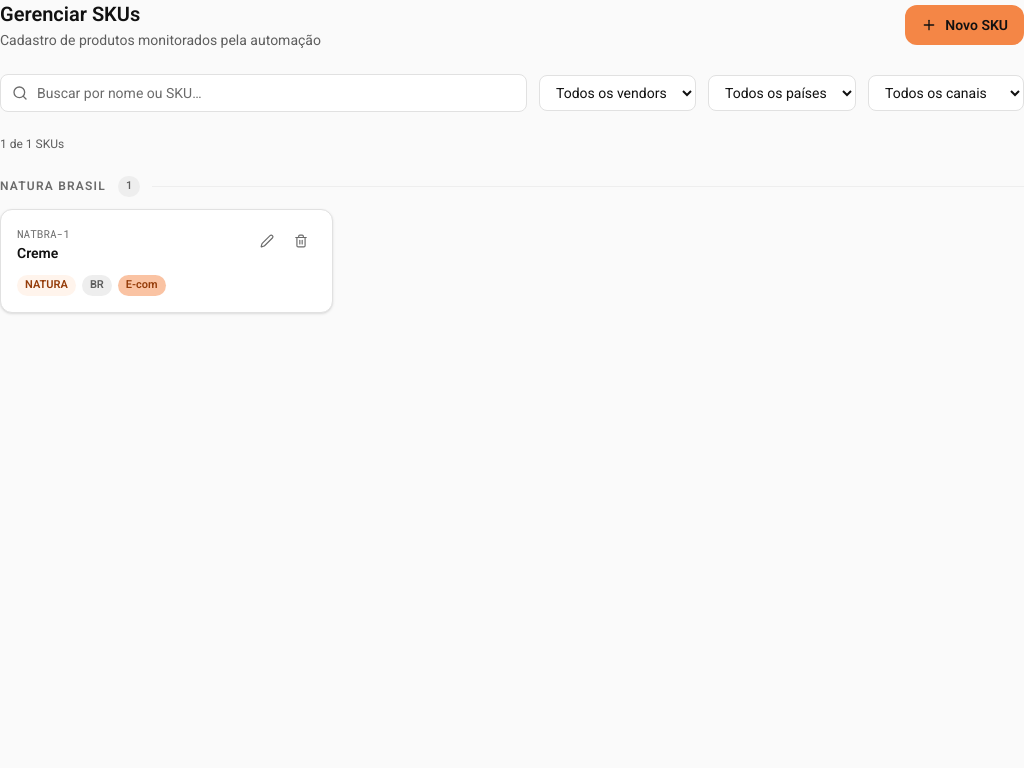
Test: SkusClient › edita um SKU e substitui o card mesmo quando o id muda
The image size is (1024, 768).
Click the button named "Editar Creme" at x=267, y=240, box [252,226,282,256]
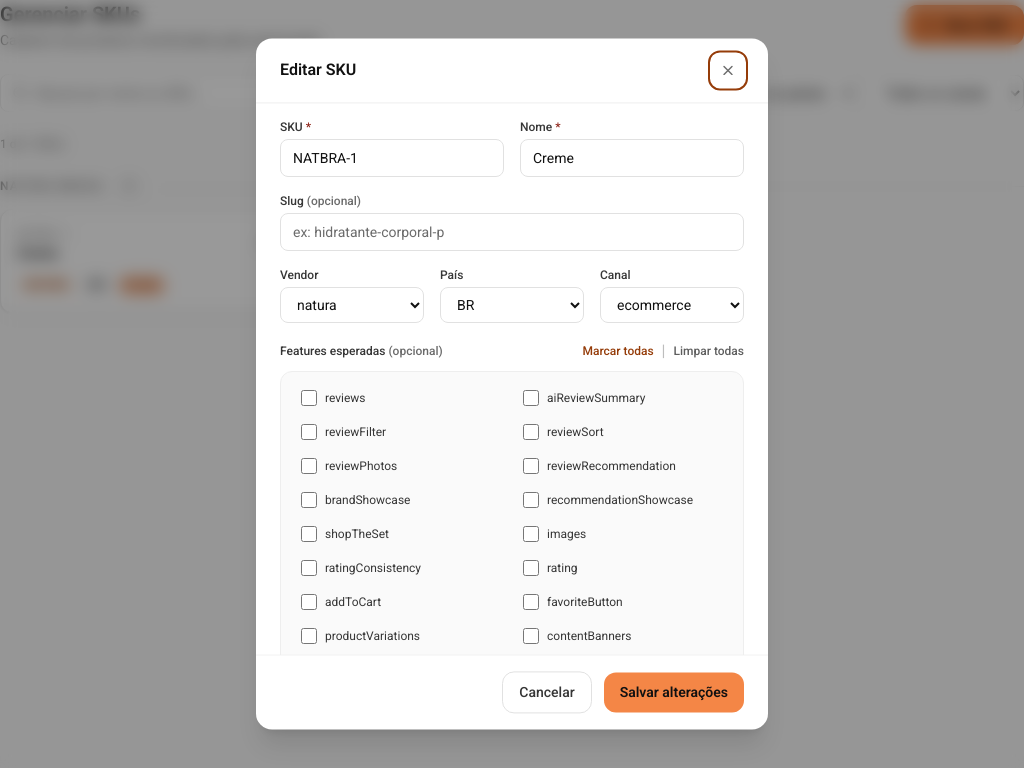
Replace the text in the field labelled "Nome *" with "Creme Novo" at x=632, y=158, box [520,139,744,177]
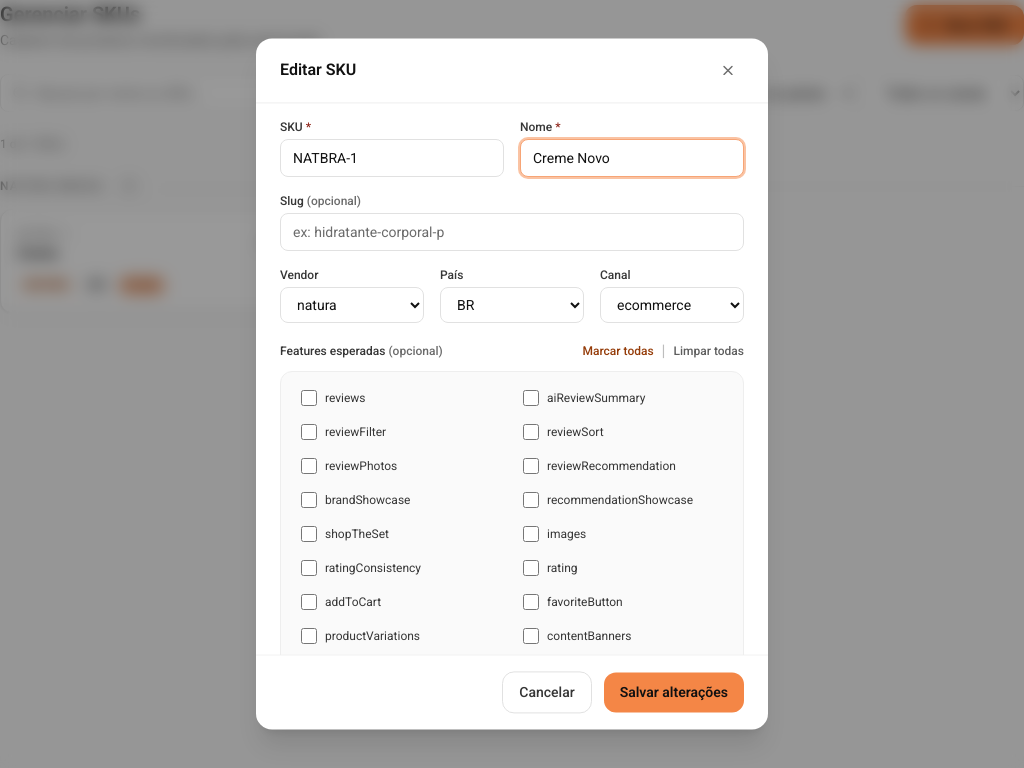
Select "socialcommerce" in the dropdown labelled "Canal" at x=672, y=305, box [600,287,744,323]
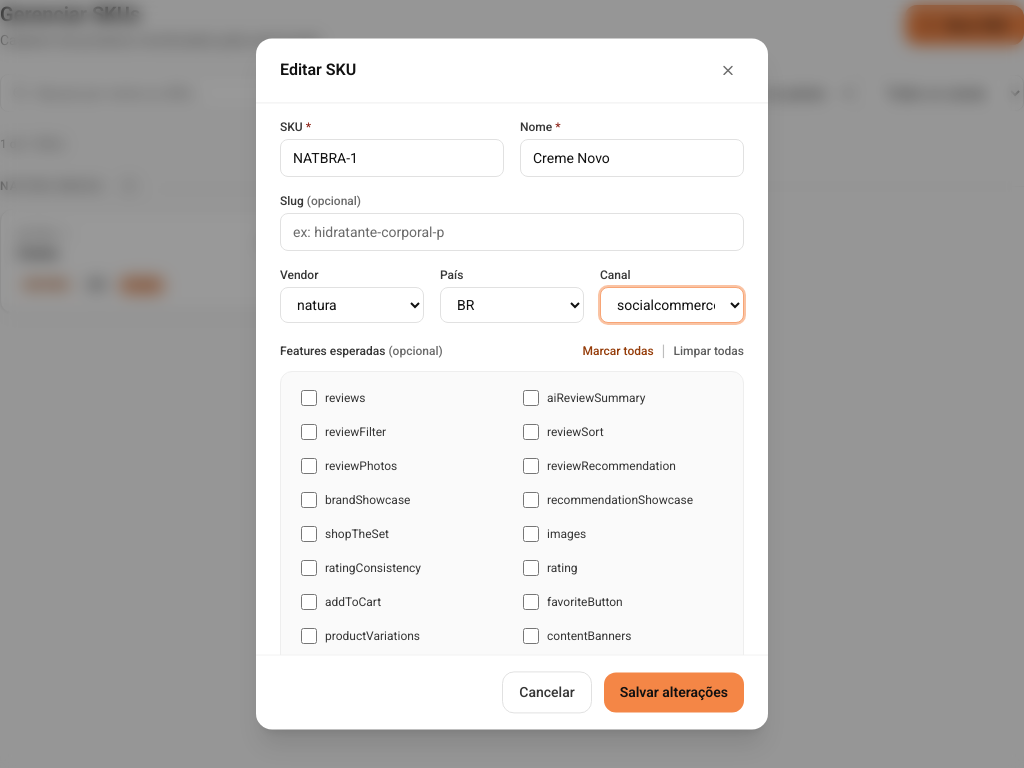
Click the button "Salvar alterações" at x=674, y=693, box [604,673,744,713]
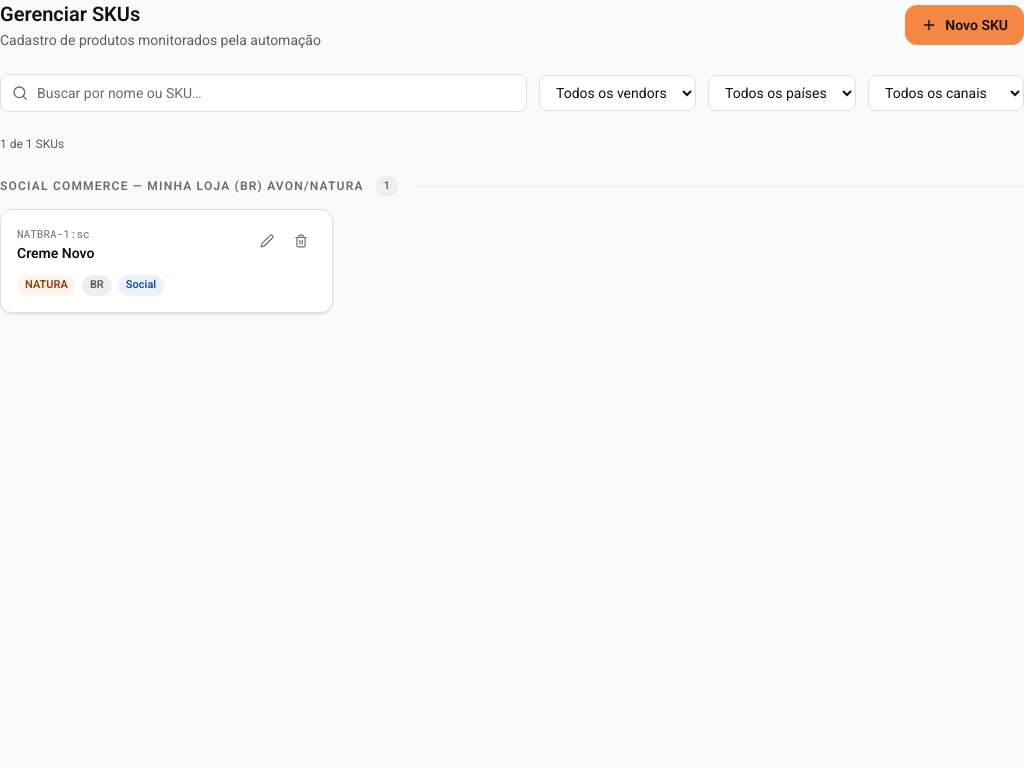
Check: the dialog is gone
Check: the heading "Creme Novo" is shown, box [17,245,94,261]
